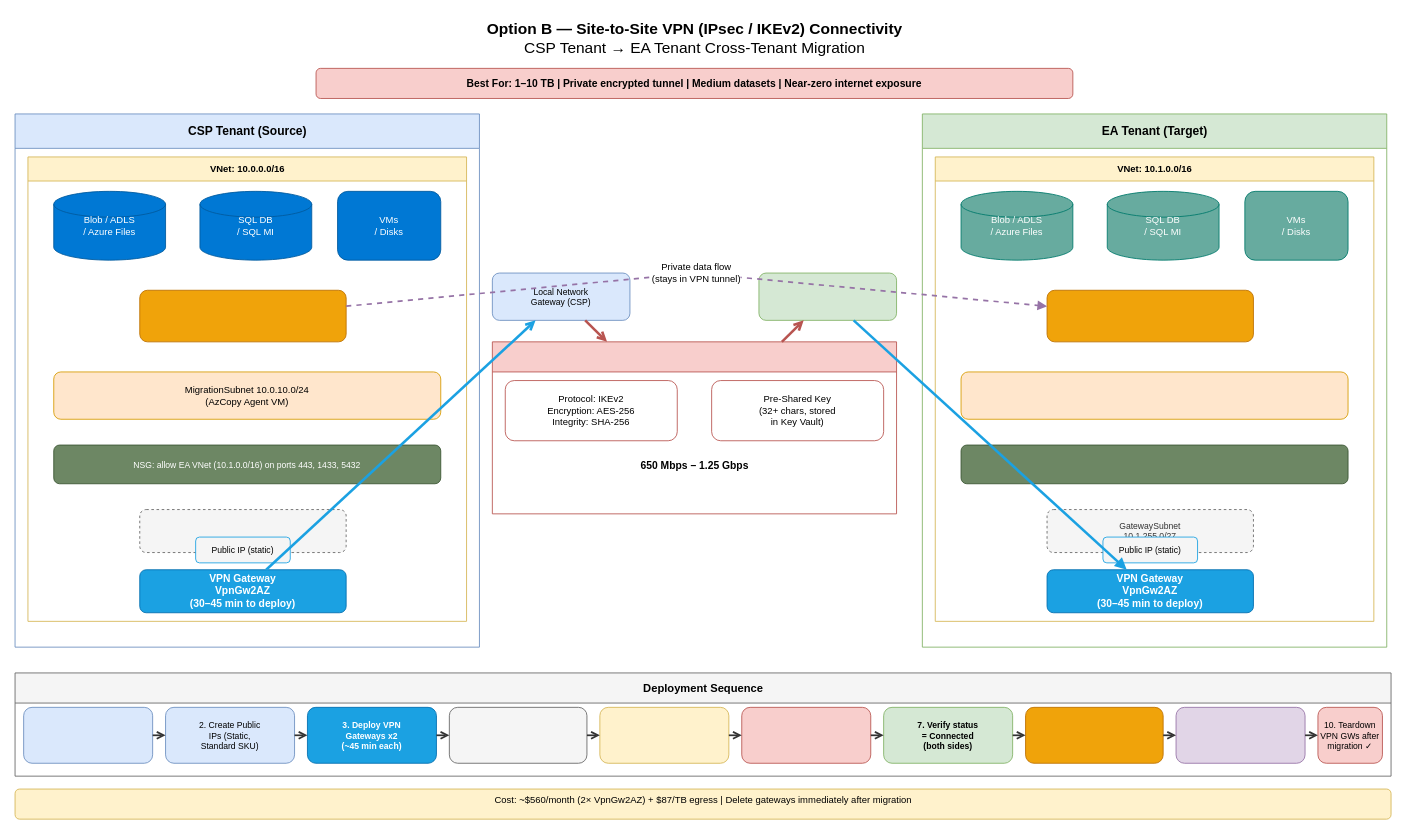
Image size: 1406x834. Some labels were removed from this diagram. Each missing label, with the box of its shape:
1. Create GatewaySubnet /27 (both): (23, 706, 153, 763)
4. Create Local Network Gateways (each side): (448, 706, 587, 763)
5. Store PSK in Key Vault (32+ chars): (599, 706, 729, 763)
6. Create VPN Connections (IKEv2, both): (741, 706, 871, 763)
8. Create Private Endpoints + DNS (disable public): (1025, 706, 1163, 763)
9. Run AzCopy / DMS / ASR over VPN: (1175, 706, 1305, 763)
GatewaySubnet 10.0.255.0/27: (139, 509, 346, 553)
IPsec / IKEv2 Encrypted Tunnel: (491, 341, 897, 514)
Local Network Gateway (EA): (758, 272, 897, 320)
MigrationSubnet 10.1.10.0/24 (DMS Target / ADF IR / Agent VM): (960, 371, 1348, 419)
NSG: allow CSP VNet (10.0.0.0/16) on ports 443, 1433, 5432: (960, 444, 1348, 484)
Private Endpoints (disable public access): (139, 289, 346, 342)
Private Endpoints (no public access ever): (1046, 289, 1253, 342)
